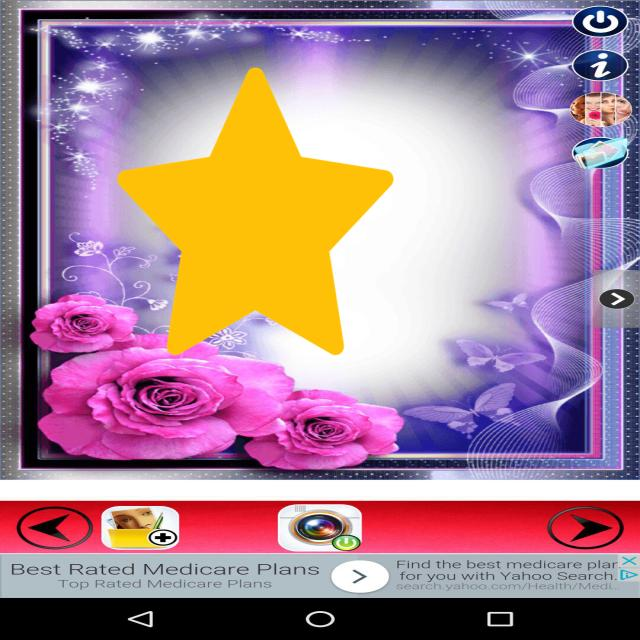forced continuity: (118, 67, 394, 356)
